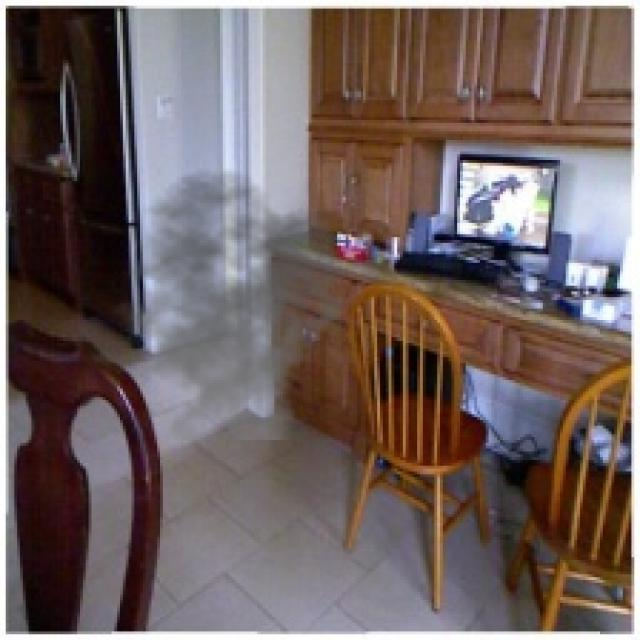smoke: (97, 169, 357, 440)
